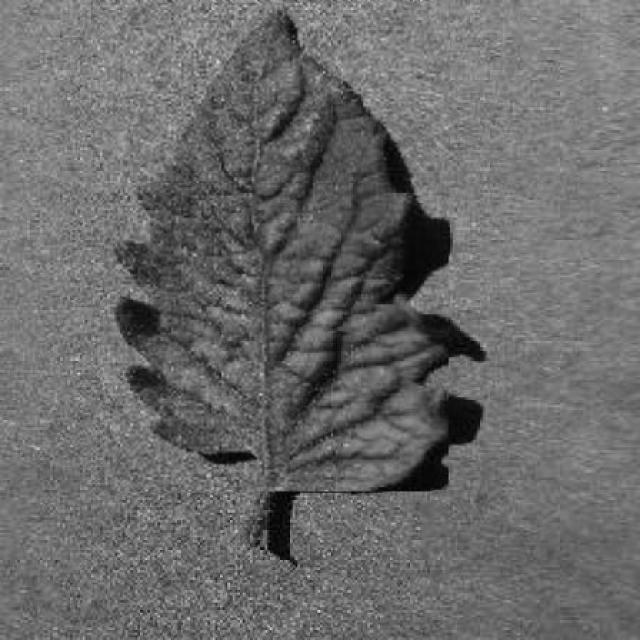Mosaic Virus: (104, 1, 449, 492)
